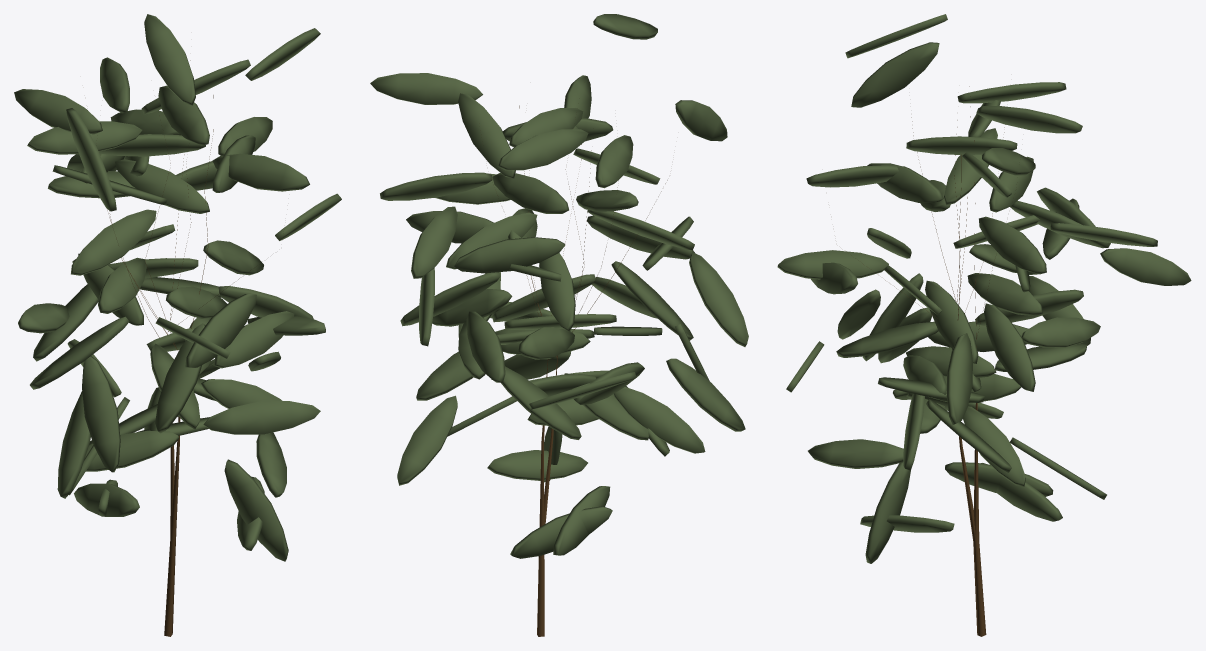
File: bush-tree-001.glb
3 views of the same model, side by side, from view 1: azimuth 30°, elevation 25°; view 2: azimuth 150°, elevation 25°; view 3: azimuth 270°, elevation 25° (orthographic). The views are drawn at different scales.
Visible parts, largest first — view 1: v_tree.001; view 2: v_tree.001; view 3: v_tree.001.
Part boxes in pixels (x1,y1,x2,y2): v_tree.001: (14, 14, 341, 636); v_tree.001: (370, 14, 748, 636); v_tree.001: (777, 14, 1191, 636).
Bounding box in the file's own units: 2.29 × 4.09 × 2.55.
